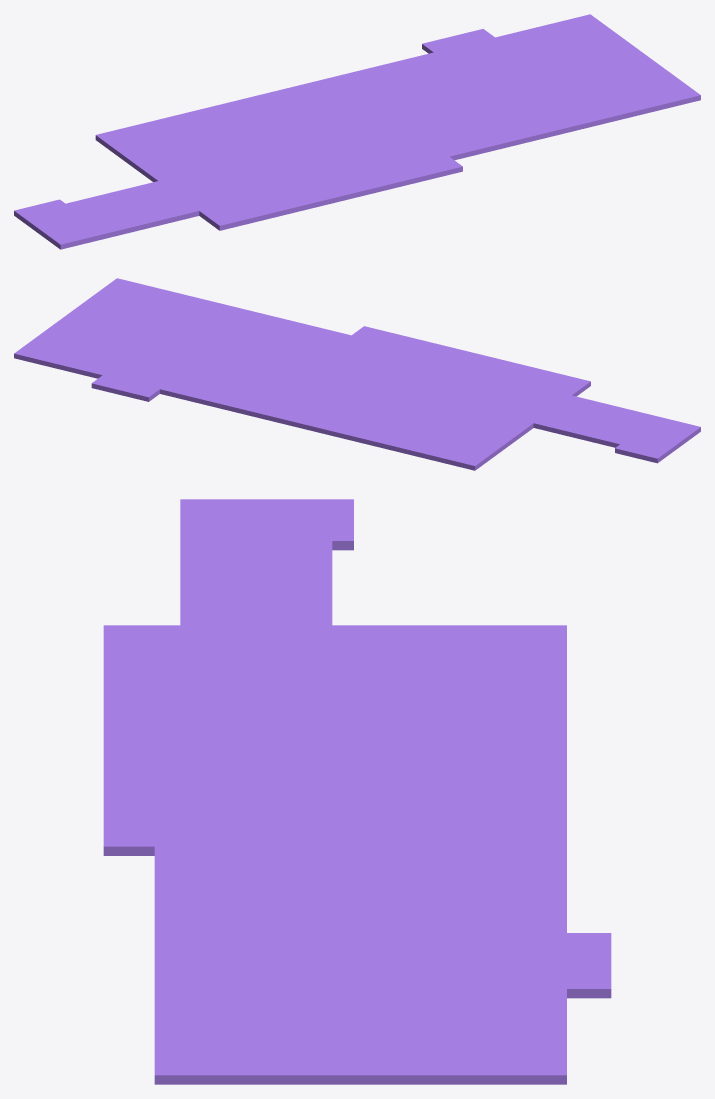
Rendered from Porkies Drop Ceiling.fbx.
The picture shows the model from 3 angles, top to bottom: view 1: azimuth 30°, elevation 25°; view 2: azimuth 150°, elevation 25°; view 3: azimuth 270°, elevation 25°; orthographic projection. The views are drawn at different scales.
Parts seen in each view (by area): view 1: Drop Ceiling; view 2: Drop Ceiling; view 3: Drop Ceiling.
Boxes of the visible parts, left/top/right/bottom form: Drop Ceiling: left=14, top=14, right=700, bottom=249; Drop Ceiling: left=14, top=278, right=700, bottom=470; Drop Ceiling: left=103, top=499, right=611, bottom=1084.
Size of the model in its own units: 33.51 by 0.254 by 12.47.
